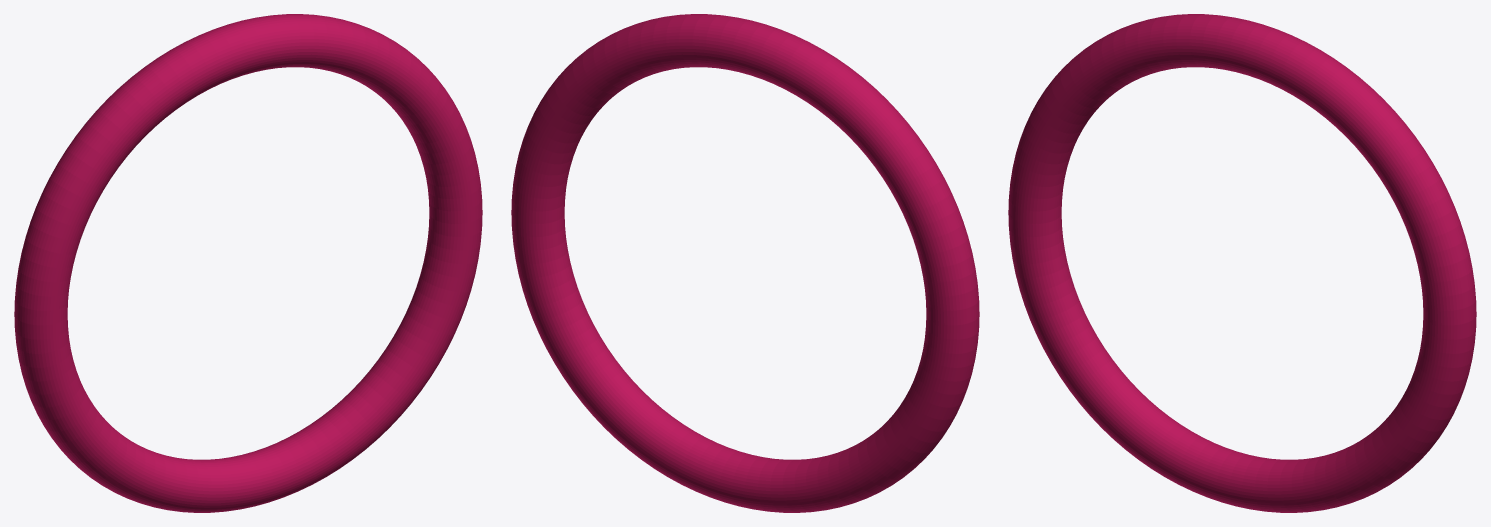
The picture shows the model from 3 angles, left to right: view 1: azimuth 30°, elevation 25°; view 2: azimuth 150°, elevation 25°; view 3: azimuth 330°, elevation 25°; orthographic projection.
Visible parts, largest first — view 1: world; view 2: world; view 3: world.
Boxes of the visible parts, x1=… form: world: x1=14, y1=14, x2=482, y2=512; world: x1=511, y1=14, x2=979, y2=512; world: x1=1008, y1=14, x2=1476, y2=512.
Bounding box in the file's own units: 33.33 × 33.33 × 3.33.
